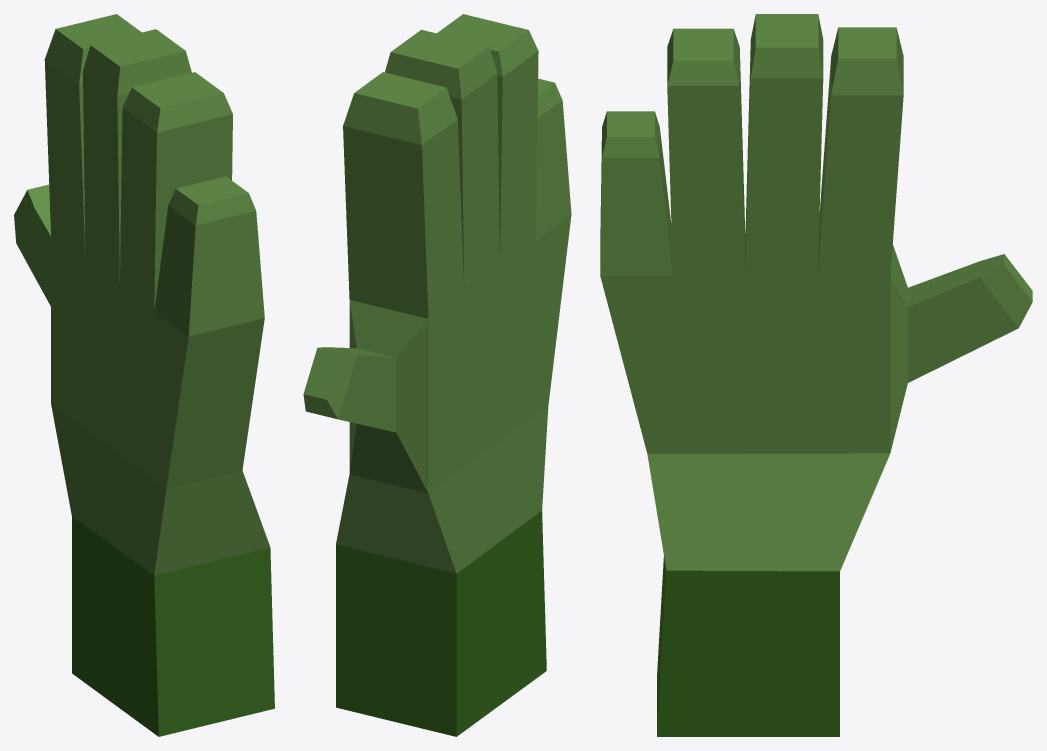
Rendered from mutant_arm.glb.
The picture shows the model from 3 angles, left to right: view 1: azimuth 30°, elevation 25°; view 2: azimuth 150°, elevation 25°; view 3: azimuth 270°, elevation 25°; orthographic projection. The views are drawn at different scales.
Parts seen in each view (by area): view 1: Cube; view 2: Cube; view 3: Cube.
Part boxes in pixels (left/top/right/bottom): Cube: left=14, top=14, right=274, bottom=736; Cube: left=303, top=14, right=571, bottom=736; Cube: left=600, top=14, right=1032, bottom=736.
Size of the model in its own units: 0.6395 by 3.33 by 1.96.
Materials: 1 (1 with a texture image).
